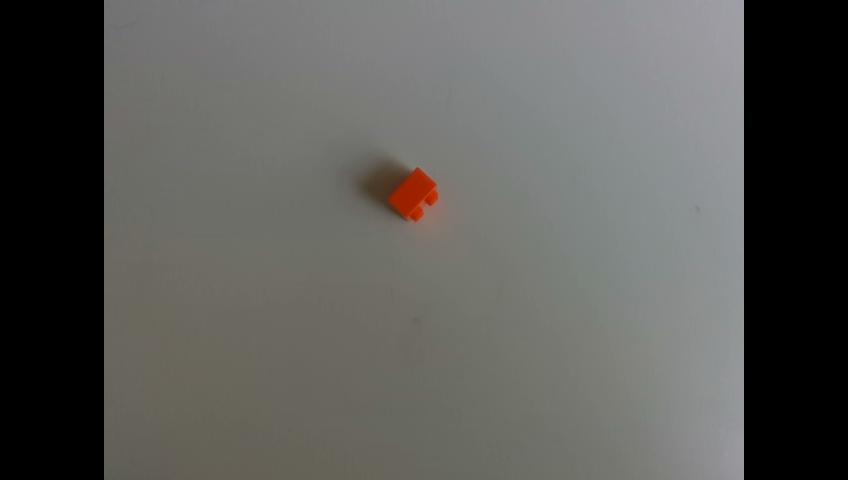2x2_orange: (391, 167, 439, 221)
